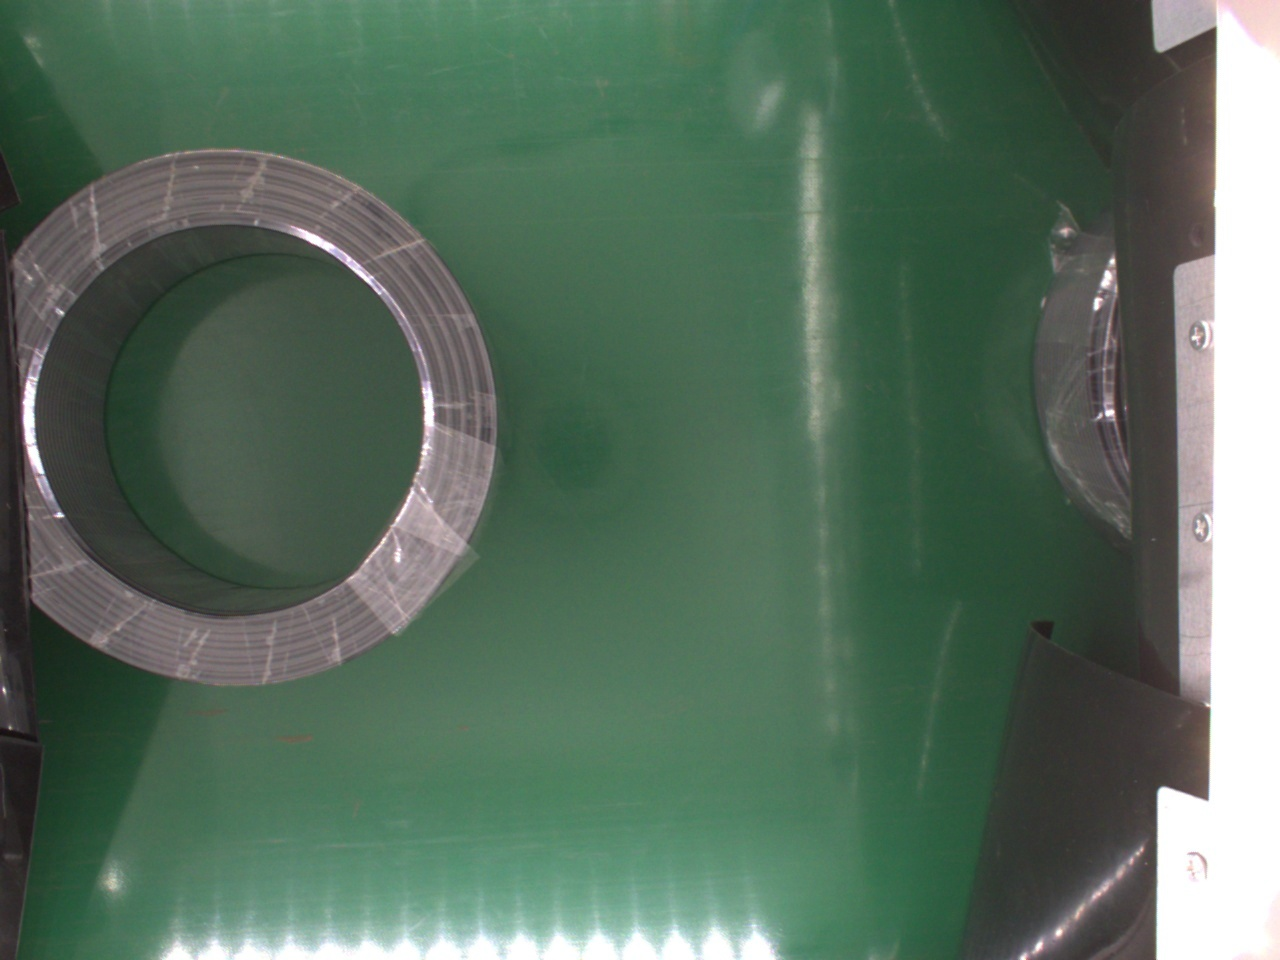black: (21, 148, 500, 691), (1032, 218, 1136, 543)
